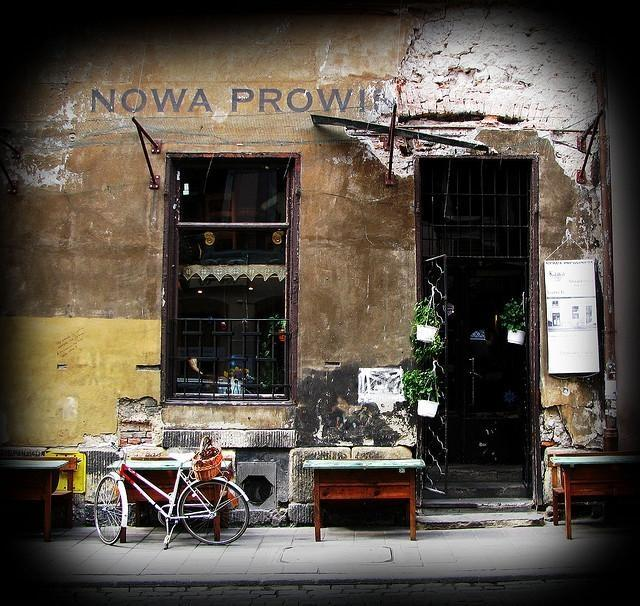bicycle: (94, 440, 250, 550)
